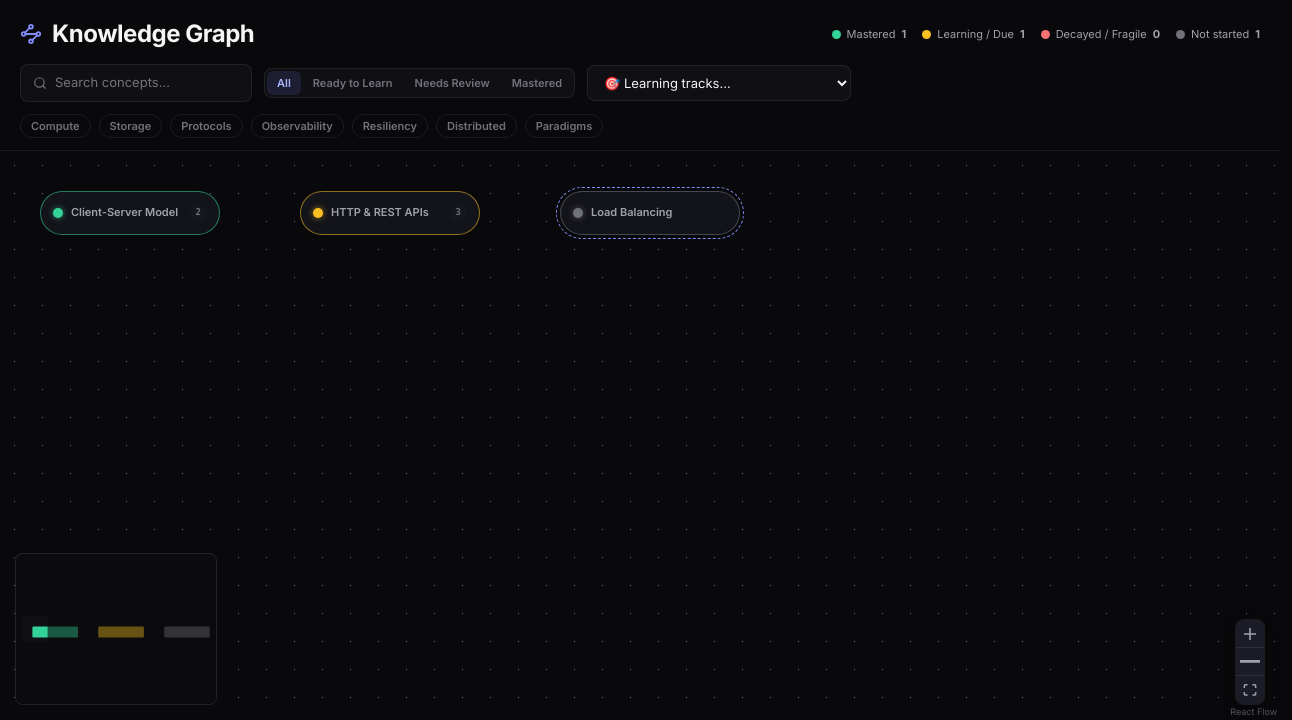
Test: GraphPage › activates a learning track with numbered study order
Select "🧠 Senior Distributed Systems (1/2)" in the dropdown with id "graph-track-select" at (719, 83), box x1=587 y1=65 x2=851 y2=101
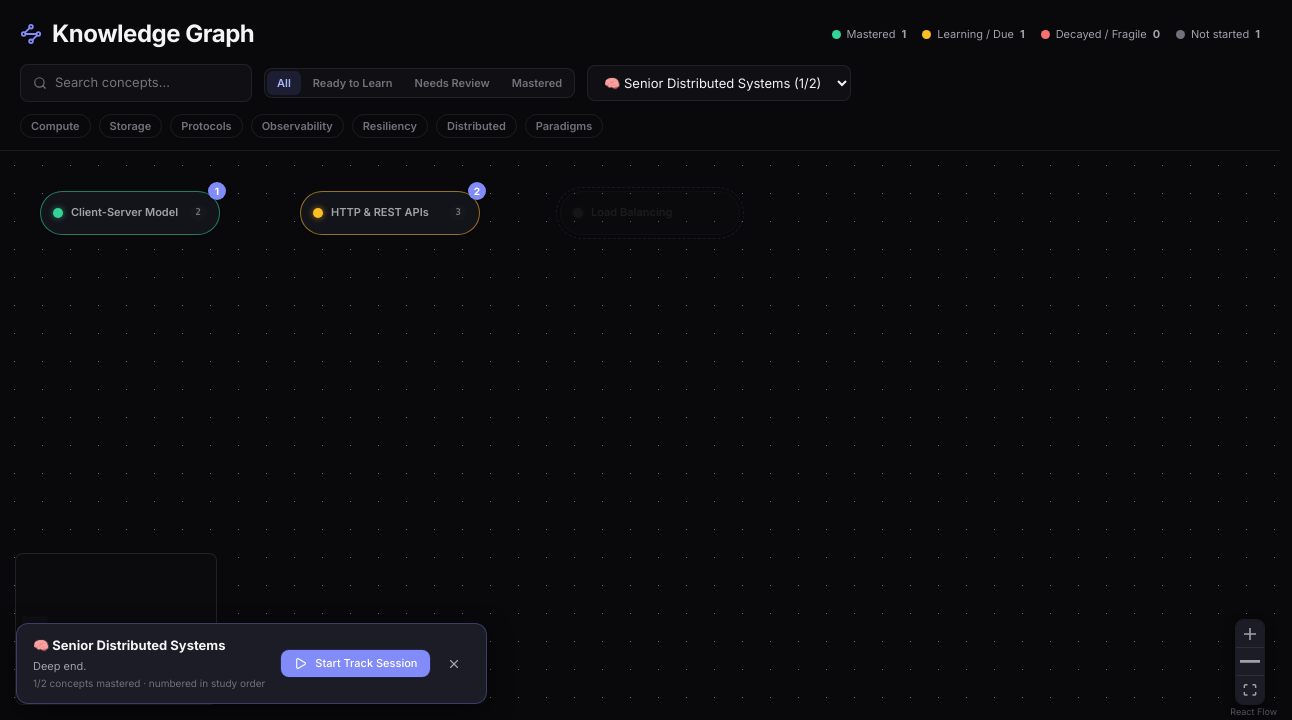
Expected: the element with id "graph-track-ribbon" is shown, x1=16 y1=623 x2=488 y2=704
Expected: the button "Start Track Session" is shown, x1=281 y1=650 x2=430 y2=677
